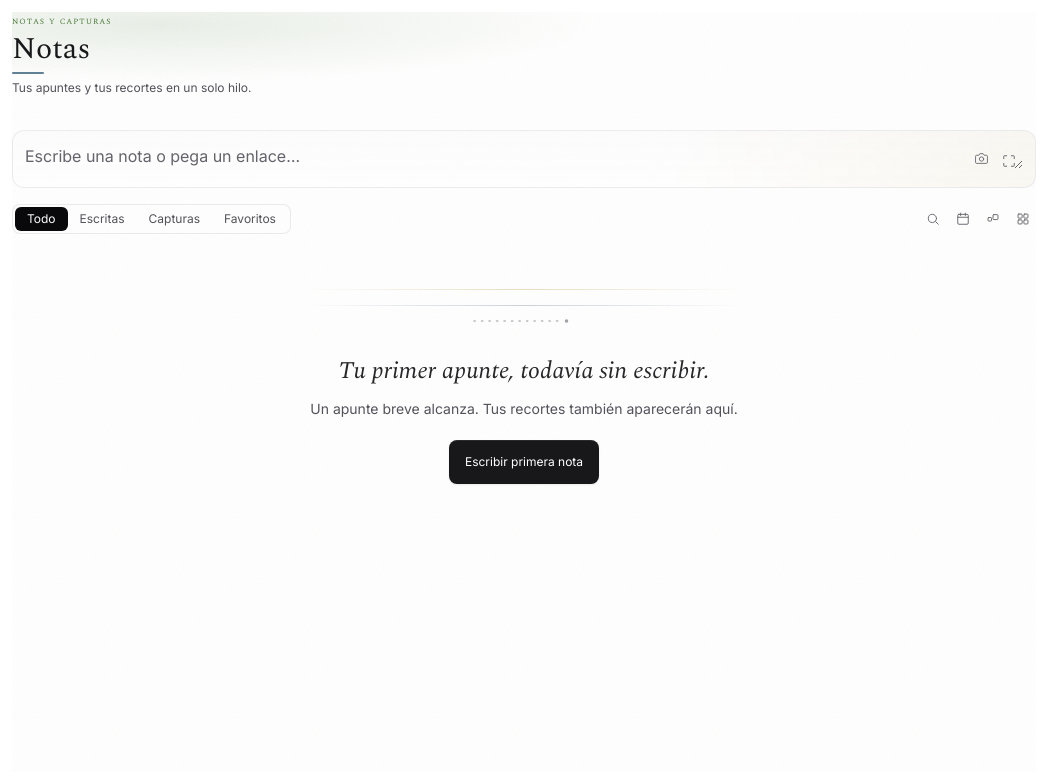
Test: <NotasFeedView /> › crear enlace: la tarjeta aparece y, tras el enriquecimiento OG, muestra el título
In the text box with placeholder "Escribe una nota o pega un enlace…": (524, 156) [25,142,1023,168], type "https://example.com/x"
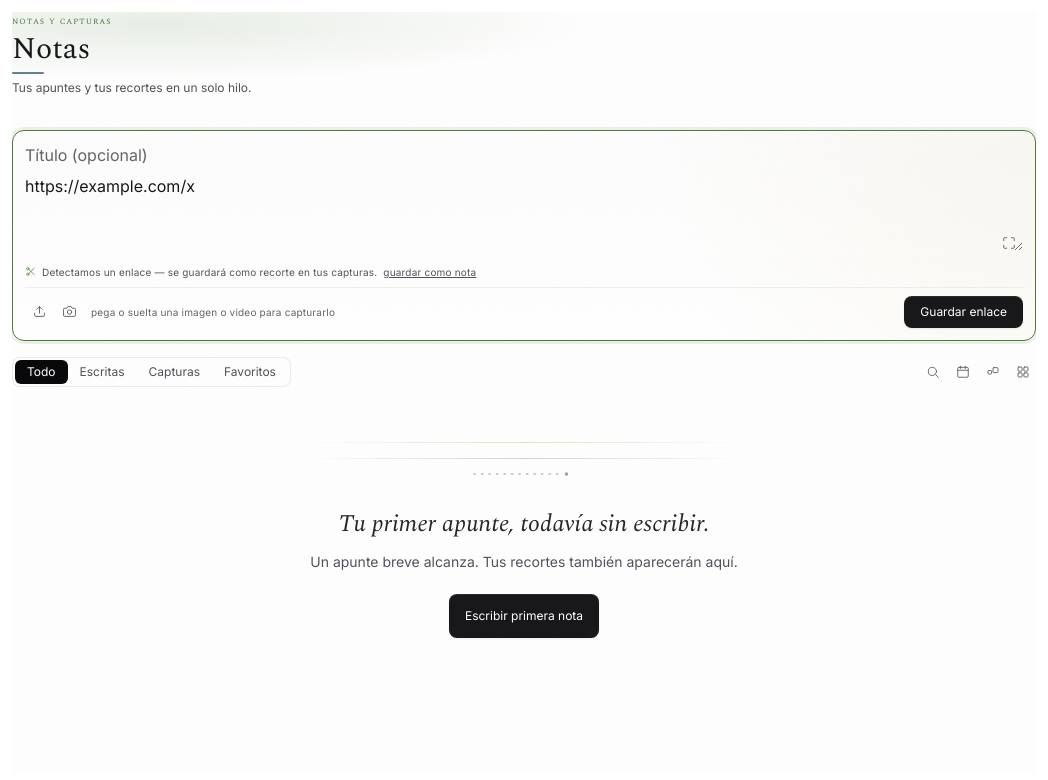
Click the button "Guardar enlace": (964, 312) [904,296,1023,328]
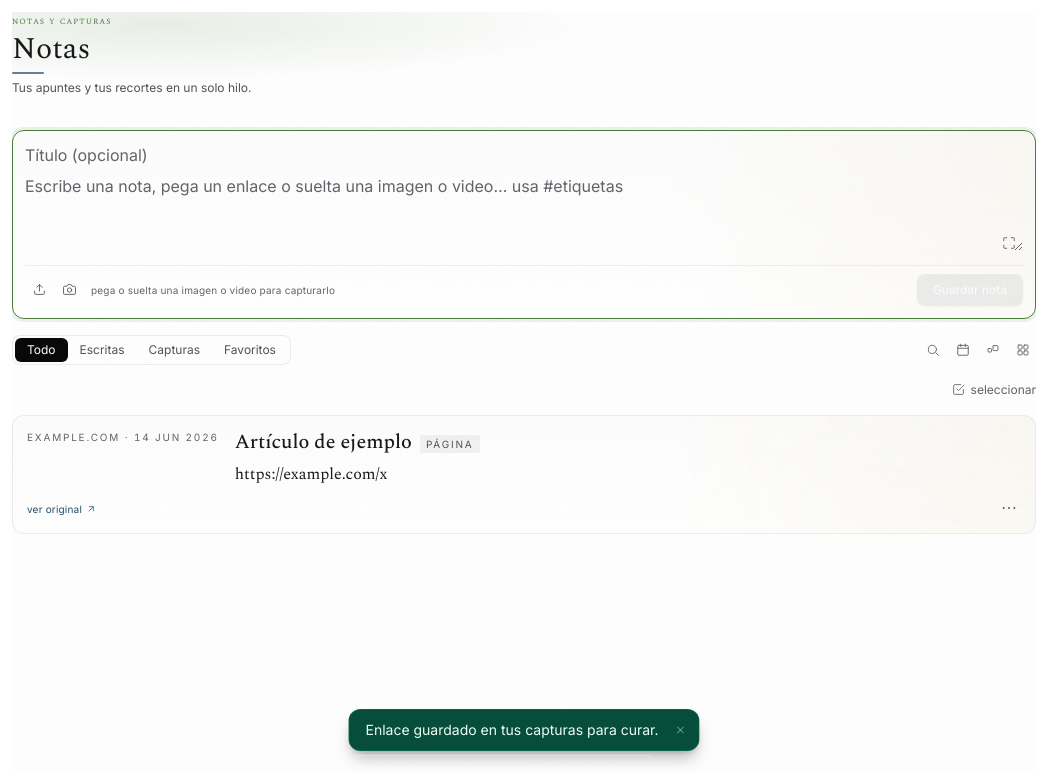
Now the text "Artículo de ejemplo" is shown, box [235,430,412,455]
